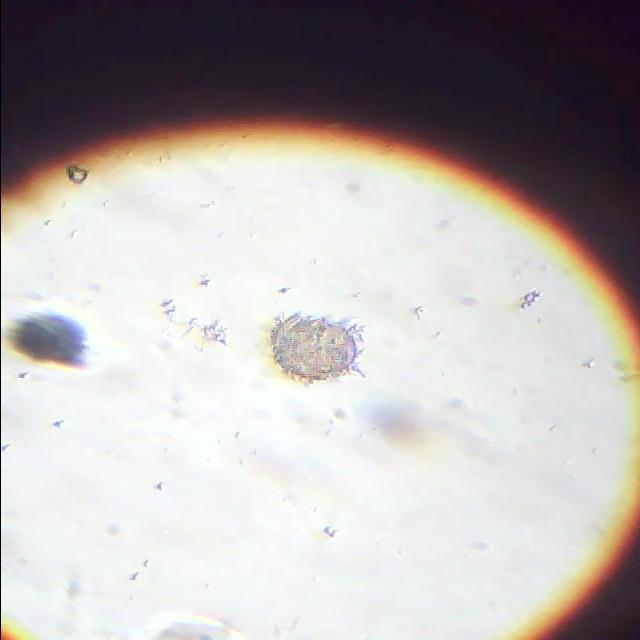alexandrium: (260, 306, 366, 406)
alexandrium minutum: (8, 313, 92, 372)
